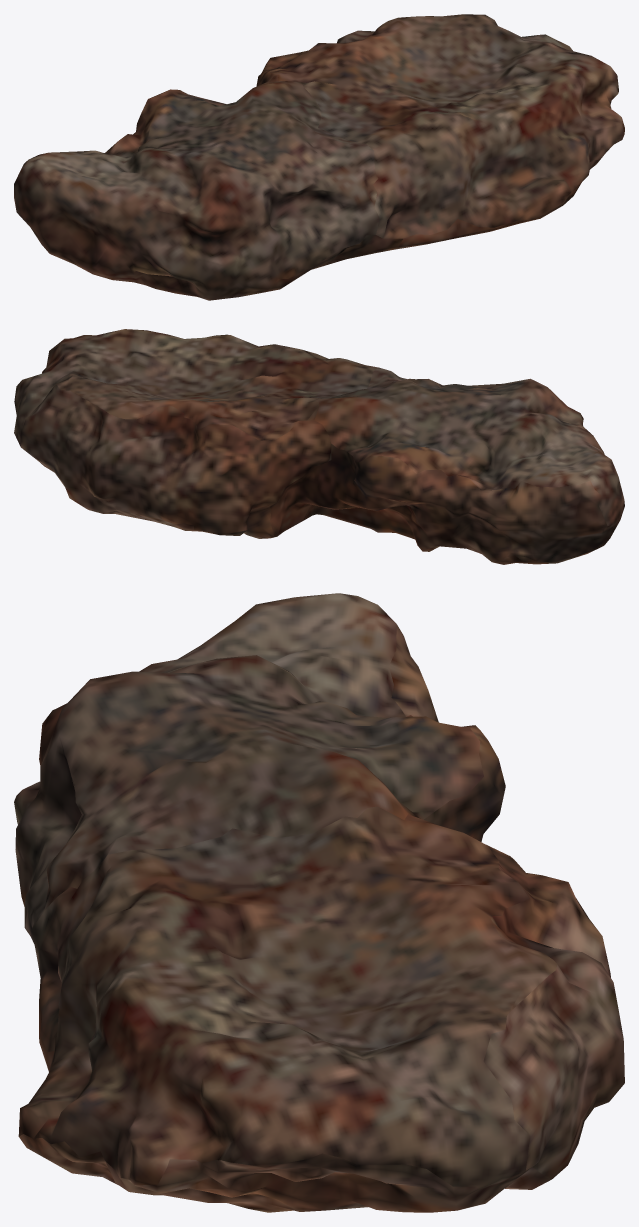
Rendered from SM_For_Sca_Stick_Set_02_D.gltf.
3 views of the same model, one above another, from view 1: azimuth 30°, elevation 25°; view 2: azimuth 150°, elevation 25°; view 3: azimuth 270°, elevation 25° (orthographic). The views are drawn at different scales.
Visible parts, largest first — view 1: SM_For_Sca_Stick_Set_02_D; view 2: SM_For_Sca_Stick_Set_02_D; view 3: SM_For_Sca_Stick_Set_02_D.
Part boxes in pixels (<box>): SM_For_Sca_Stick_Set_02_D: <box>14,14,624,300</box>; SM_For_Sca_Stick_Set_02_D: <box>14,329,624,564</box>; SM_For_Sca_Stick_Set_02_D: <box>14,593,624,1212</box>.
Bounding box in the file's own units: 0.0651 × 0.0141 × 0.0327.
Materials: 1 (1 with a texture image).
